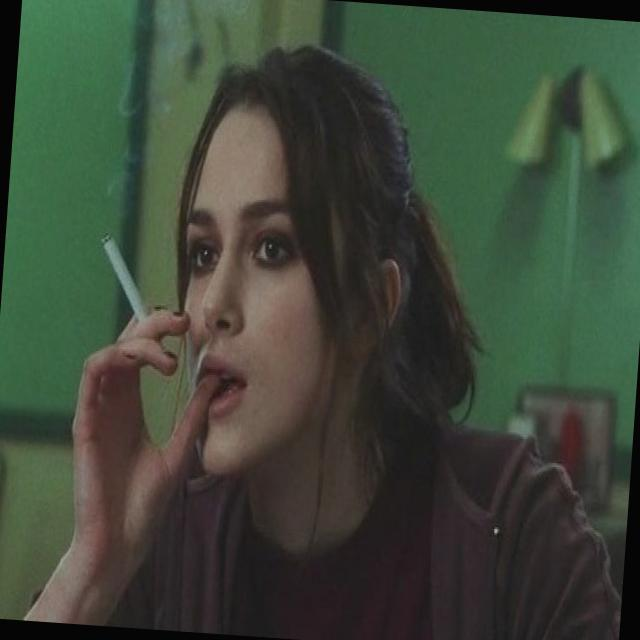smoke: (53, 213, 184, 393)
